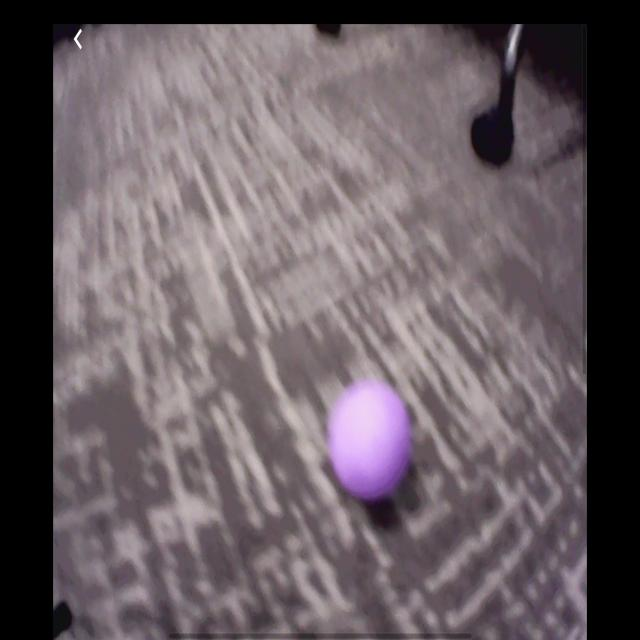ball: (331, 384, 410, 492)
